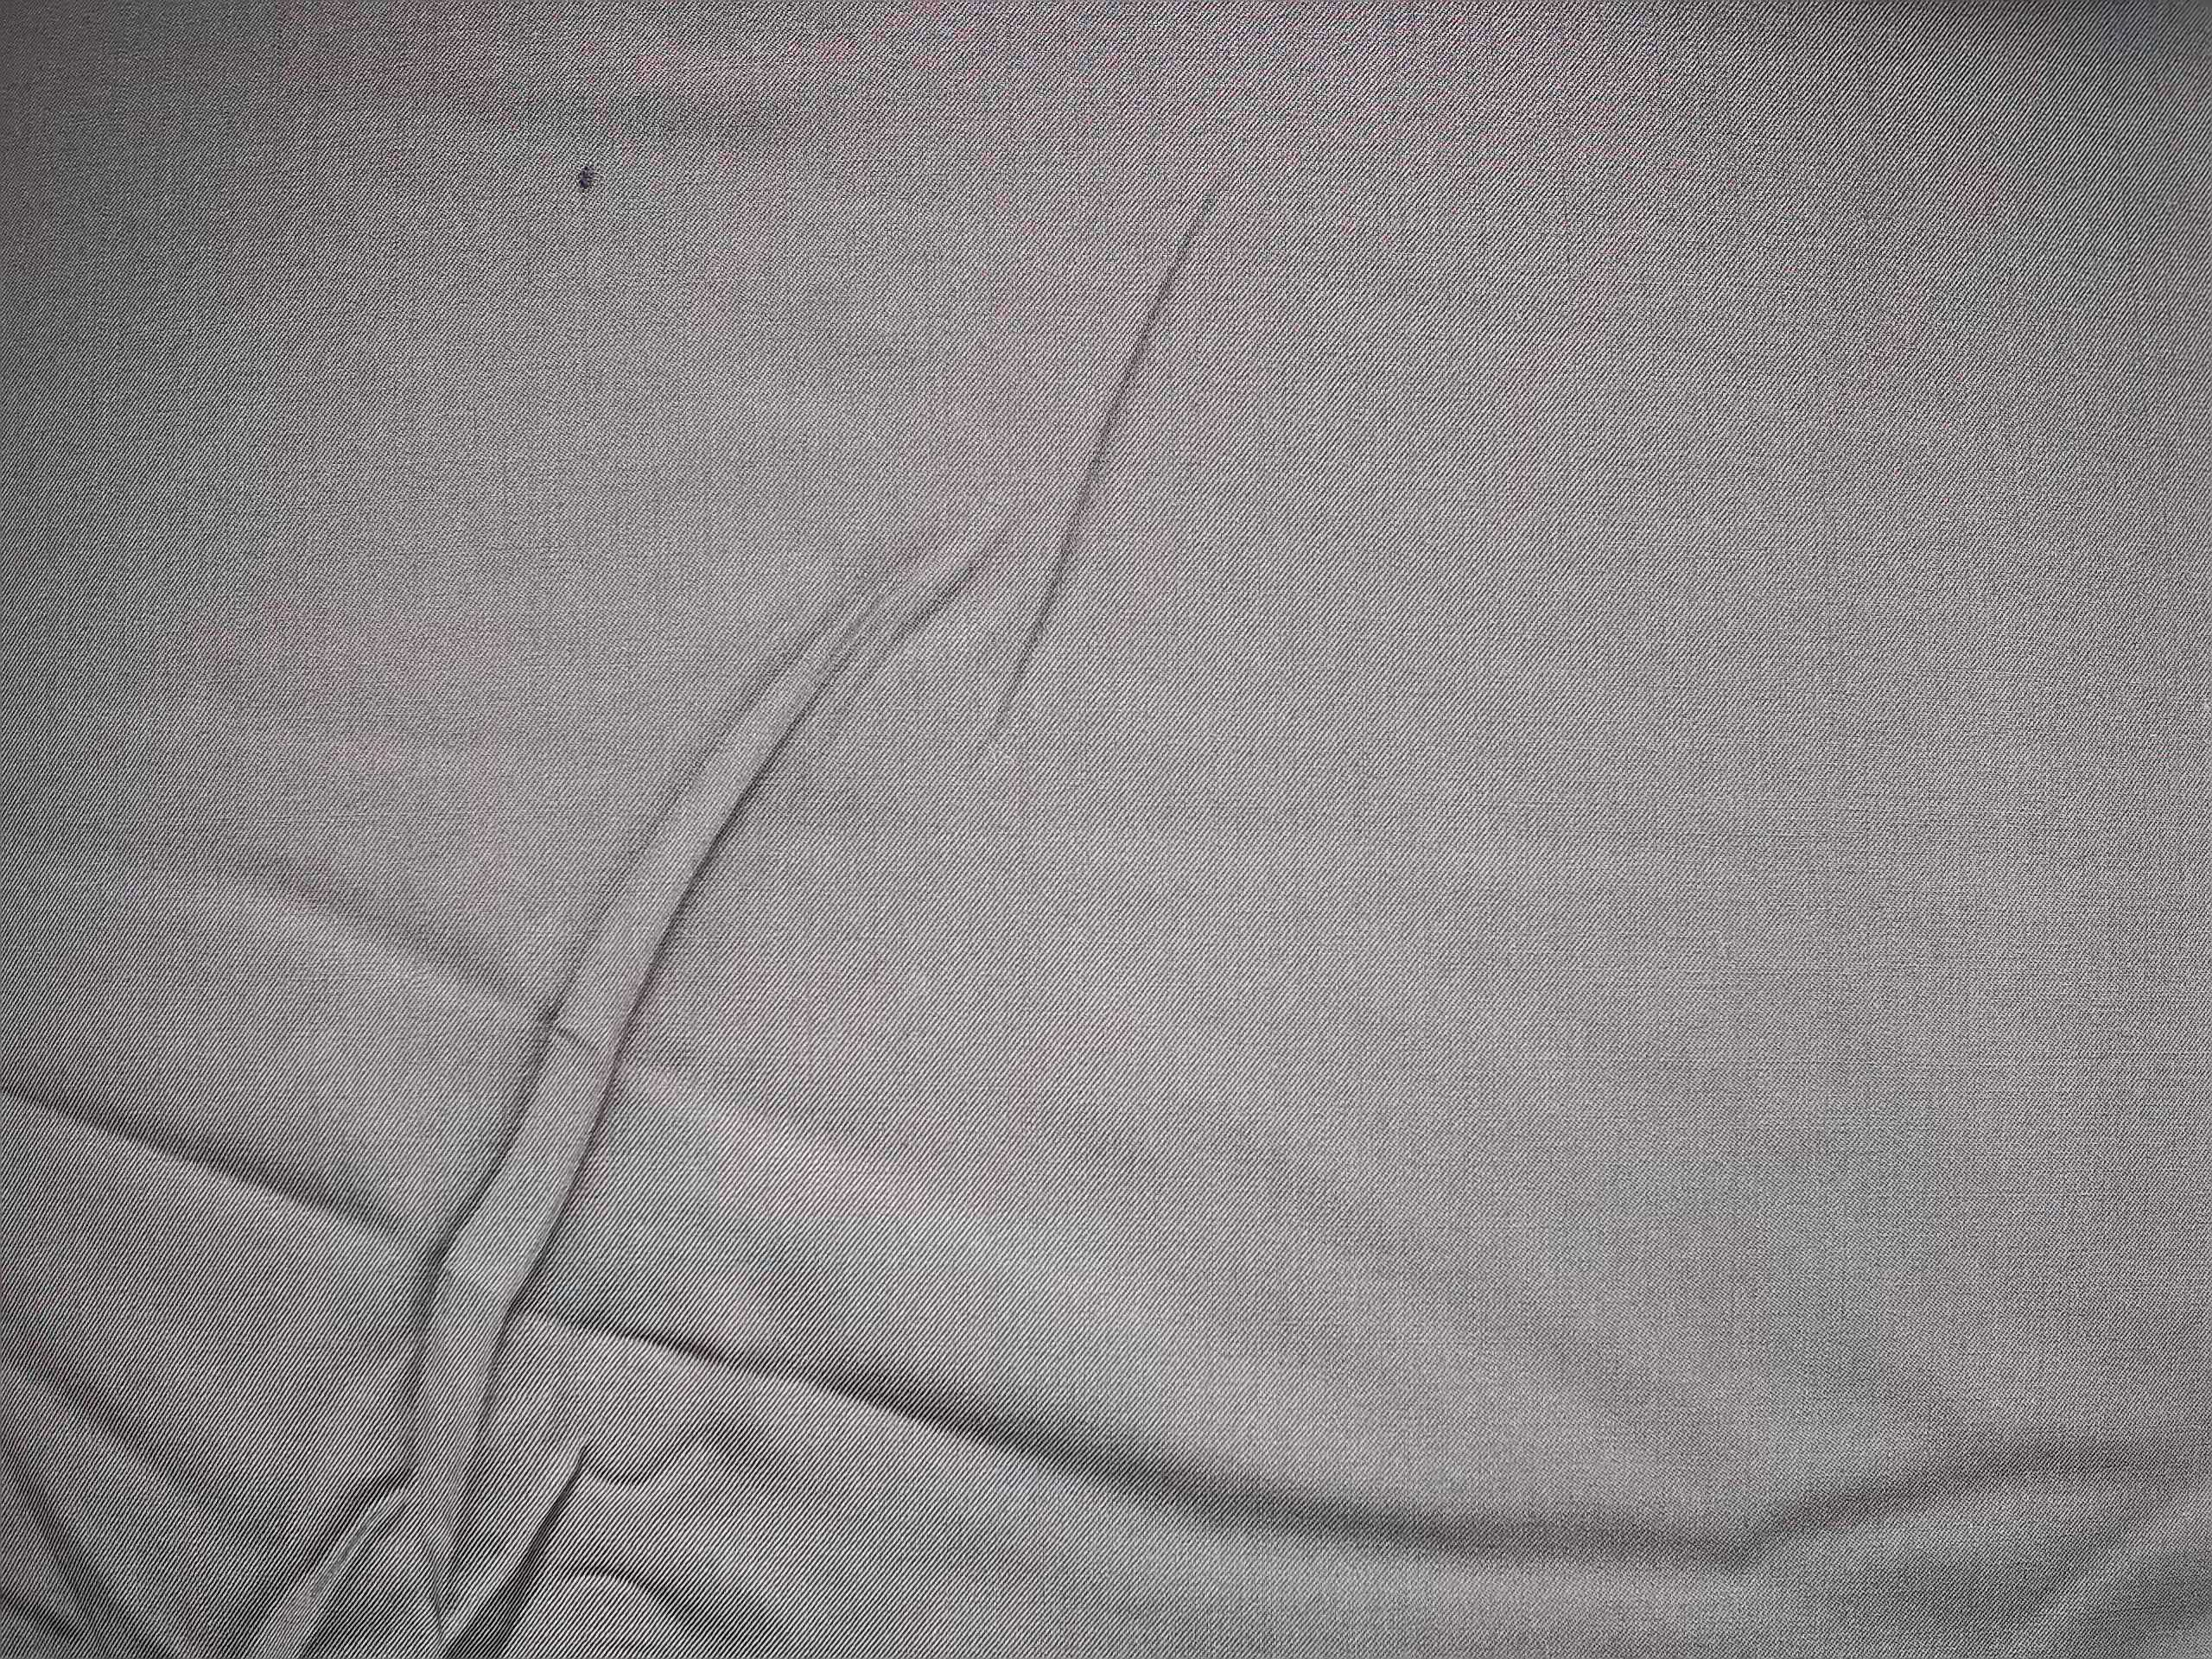rubbing-hole: (563, 148, 611, 202)
